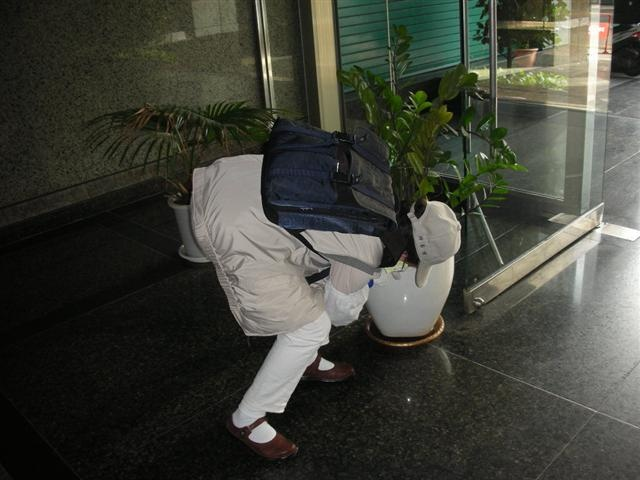plate: (364, 315, 446, 350)
